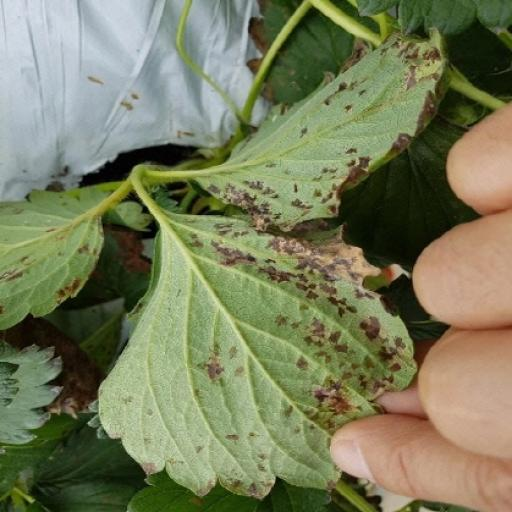Angular Leafspot: (97, 210, 420, 501), (188, 28, 455, 232), (0, 183, 123, 329)
